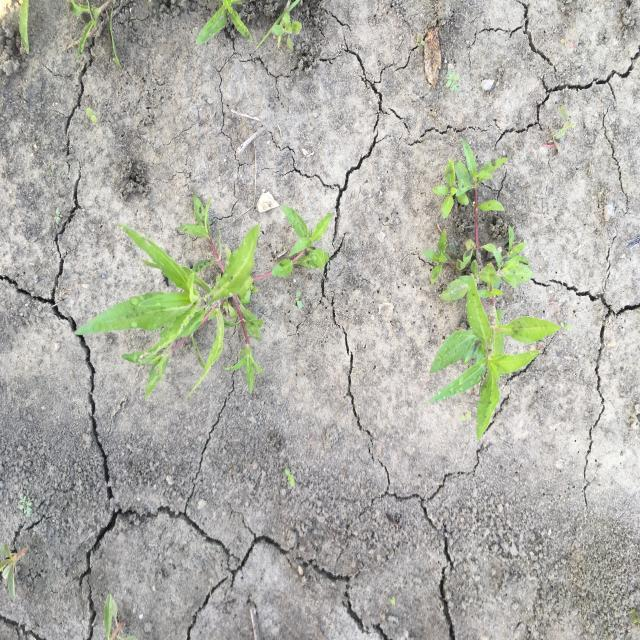Eclipta: (72, 190, 333, 404), (420, 139, 563, 442)
Waterhemp: (1, 542, 30, 602)
